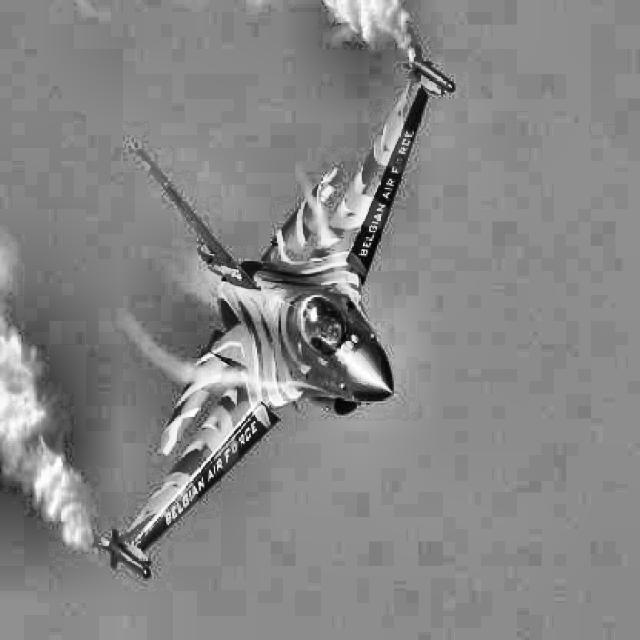F16: (98, 43, 457, 580)
